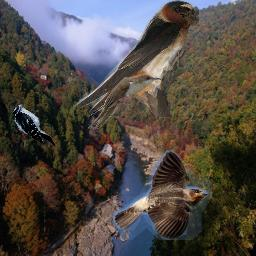Cuckoo: (88, 74, 161, 129)
Swallow: (73, 0, 199, 117), (113, 150, 212, 240)
Woodpecker: (12, 101, 56, 146)
